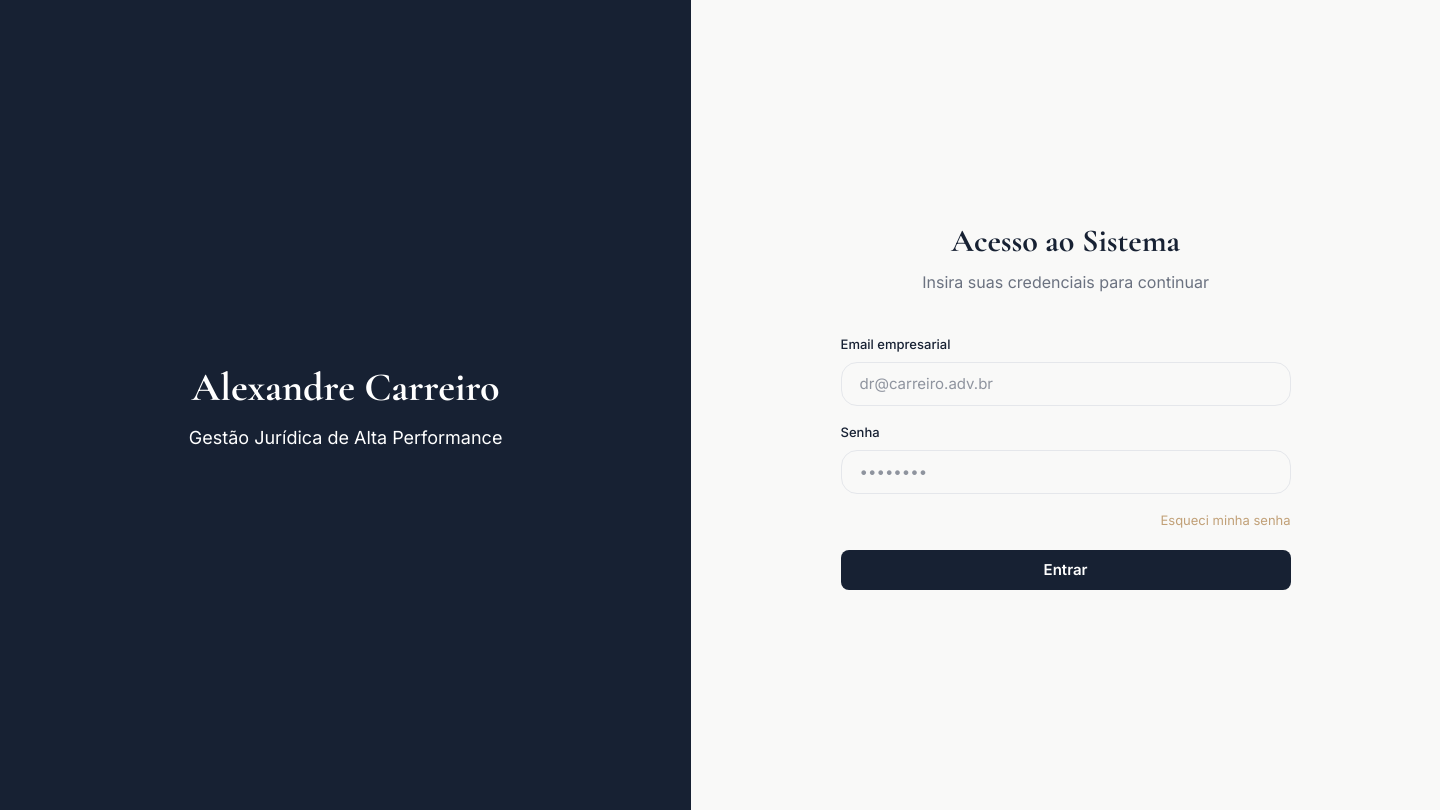
Test case: Integração: Fluxo de Login (LoginPage + useLogin + AuthProvider + services/auth + fetch) › propaga e exibe na interface a mensagem quando POST /auth/login retorna erro 500 sem detalhe usando mensagem padrão
The width and height of the screenshot is (1440, 810).
Type "usuario@carreiro.adv.br" into the field labelled "Email empresarial" at (1066, 384), box [841,362,1291,406]
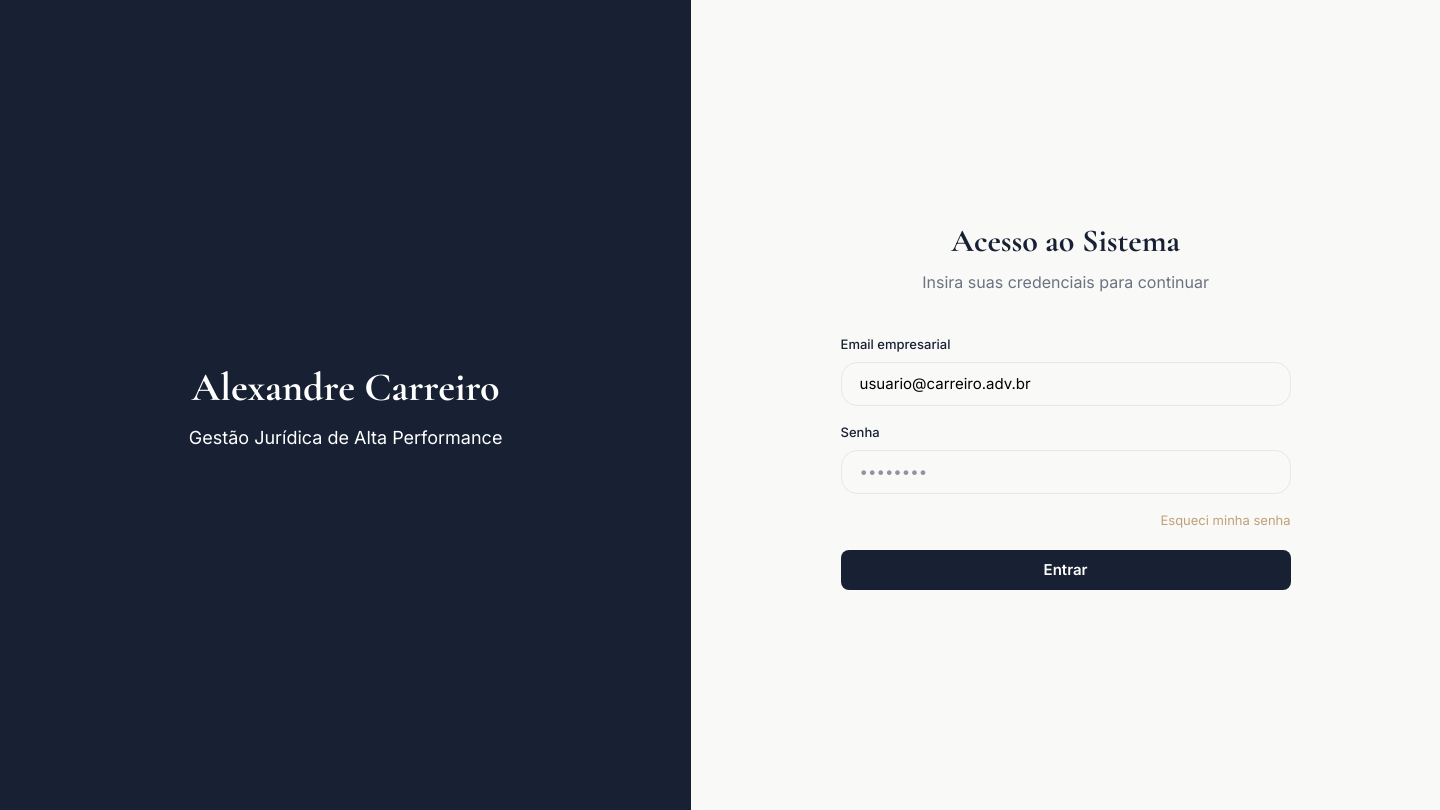
Type "senha-incorreta" into the password field labelled "Senha" at (1066, 472), box [841,450,1291,494]
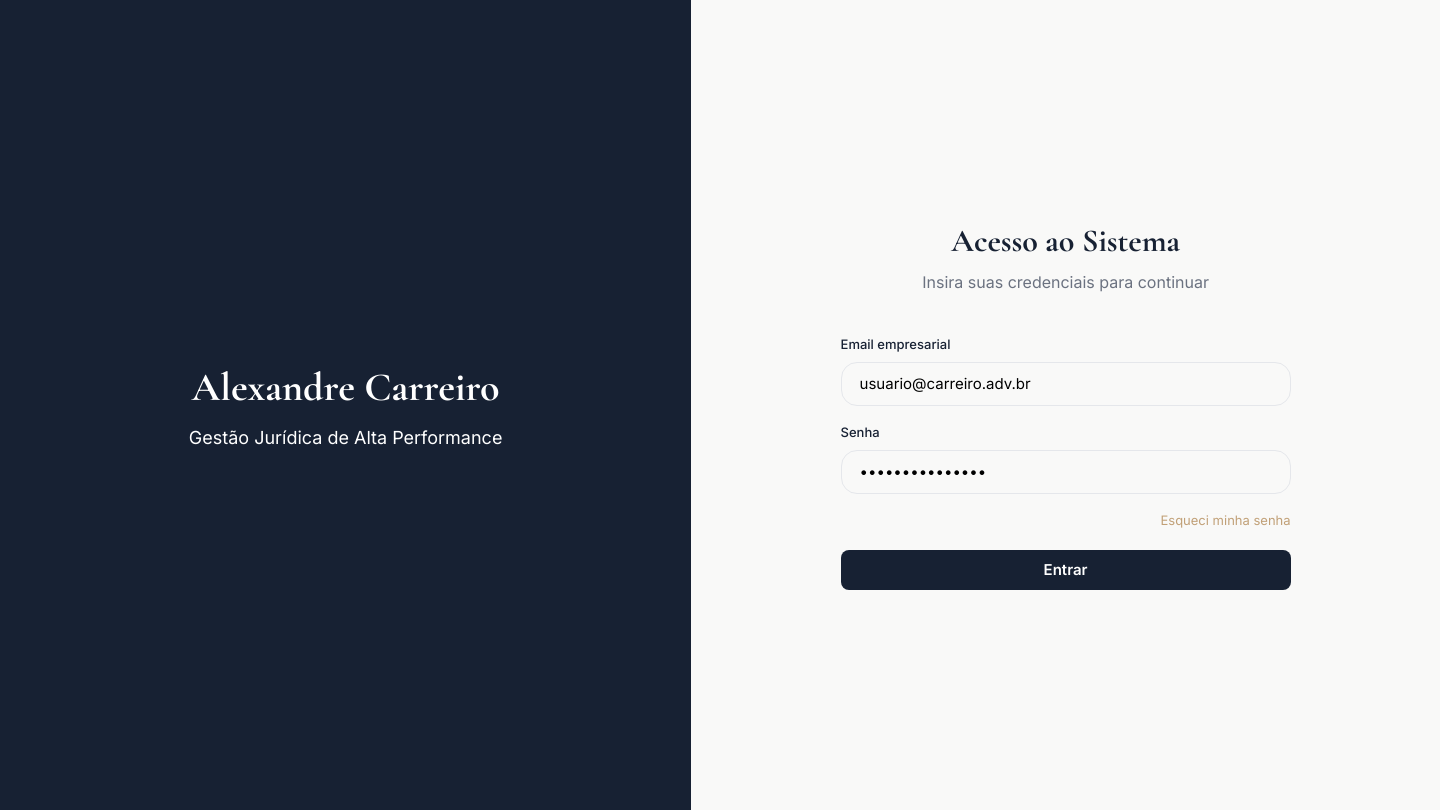
Click the button "Entrar" at (1066, 570), box [841,550,1291,590]
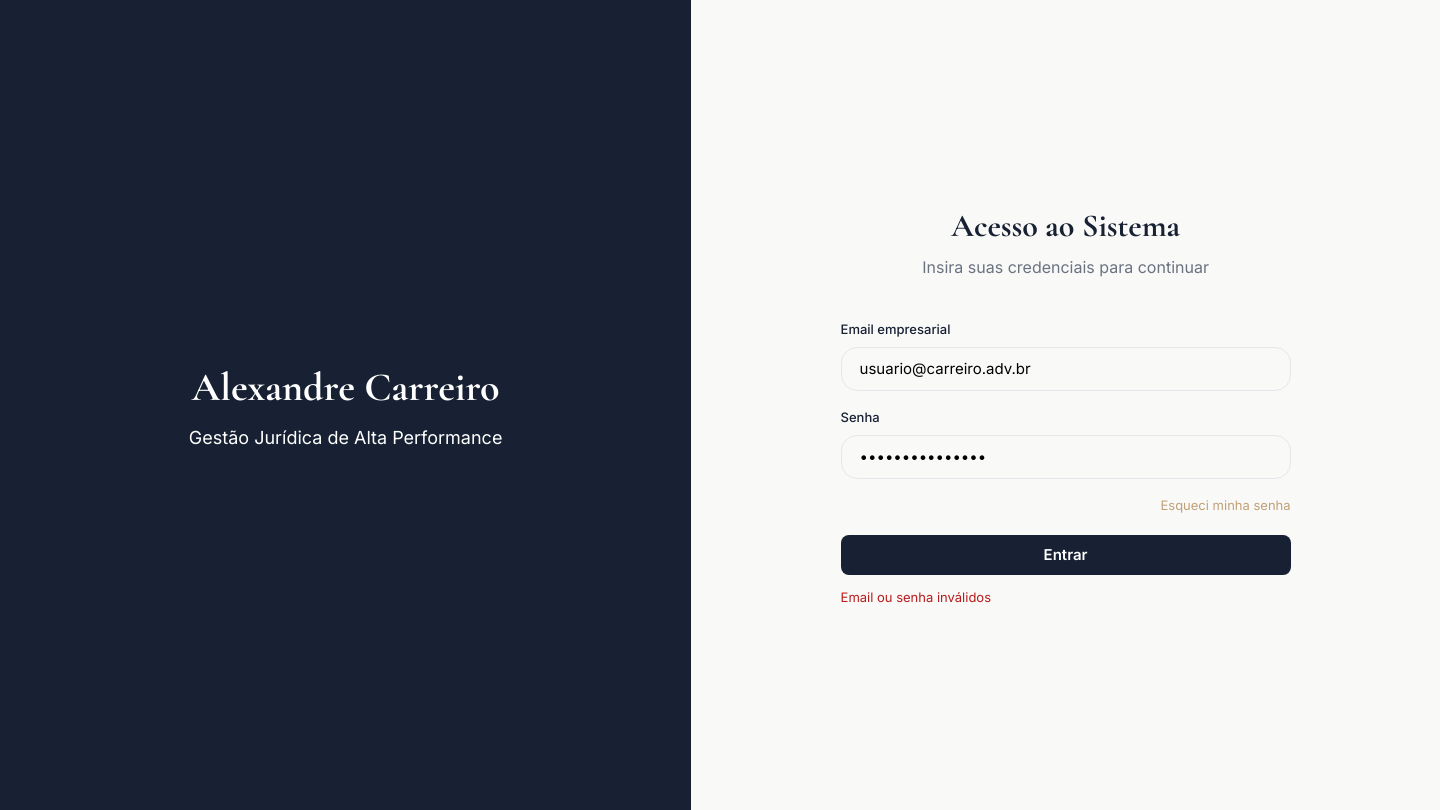
expect the text "Email ou senha inválidos" is shown: met, box [841,588,991,604]
